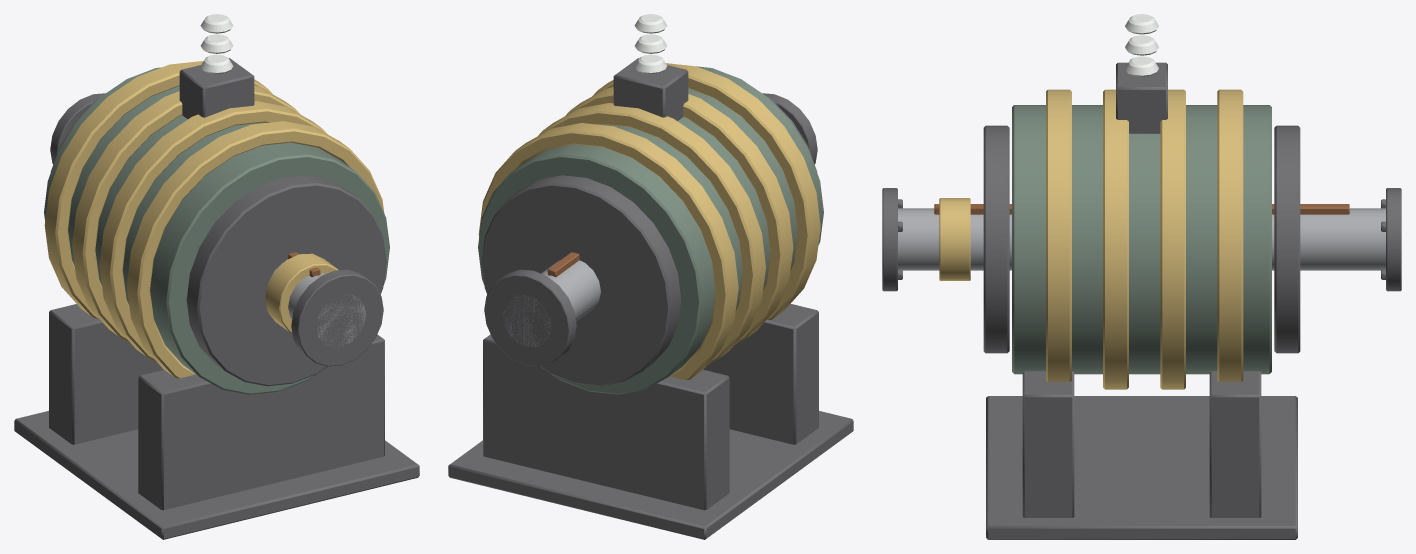
File: feDynamo.fbx
The picture shows the model from 3 angles, left to right: view 1: azimuth 30°, elevation 25°; view 2: azimuth 150°, elevation 25°; view 3: azimuth 270°, elevation 25°; orthographic projection. The views are drawn at different scales.
Visible parts, largest first — view 1: feDynamo_Base, FeSpin_DynamoArmature; view 2: feDynamo_Base, FeSpin_DynamoArmature; view 3: feDynamo_Base, FeSpin_DynamoArmature.
Part boxes in pixels (bbox=[...]): feDynamo_Base: bbox=[14, 14, 419, 539]; FeSpin_DynamoArmature: bbox=[50, 93, 383, 366]; feDynamo_Base: bbox=[448, 14, 853, 539]; FeSpin_DynamoArmature: bbox=[484, 93, 817, 366]; feDynamo_Base: bbox=[983, 14, 1300, 539]; FeSpin_DynamoArmature: bbox=[882, 188, 1401, 291].
Size of the model in its own units: 0.6 by 0.97 by 1.
